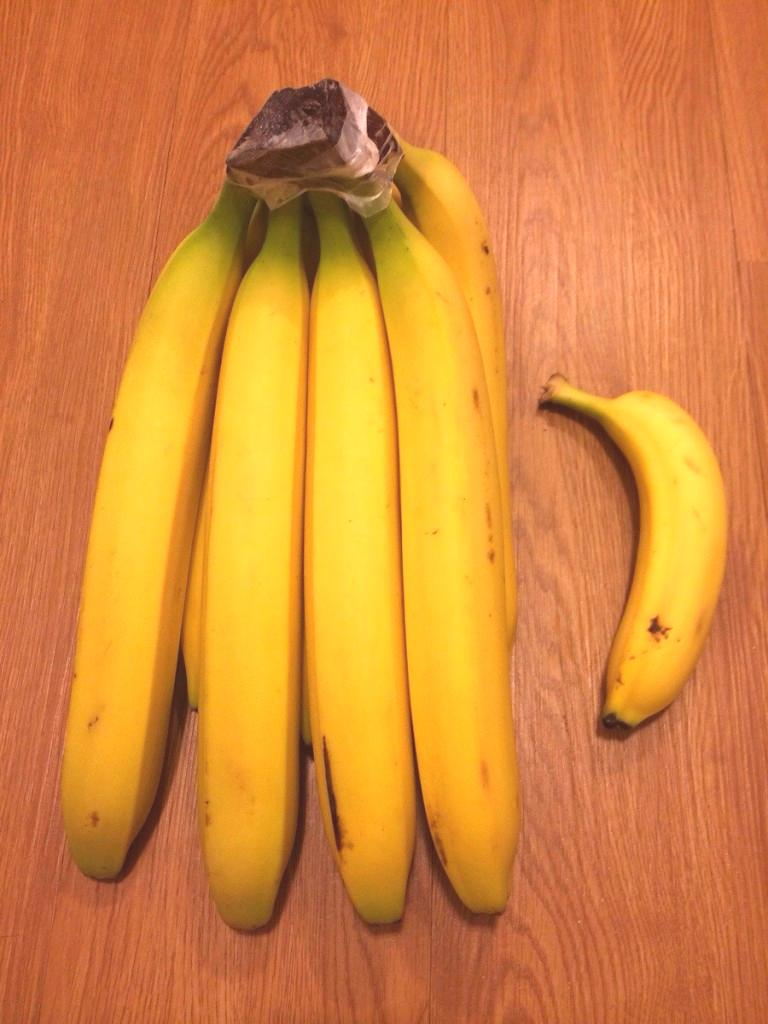Banana Ripe: (100, 50, 575, 945)
